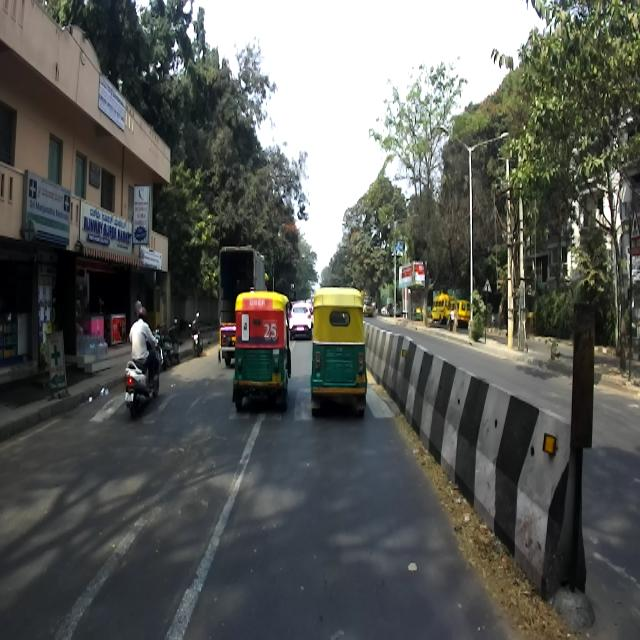auto ahead at: (232, 289, 296, 410), (310, 285, 368, 412)
motorcycle ahead at: (124, 352, 164, 418)
